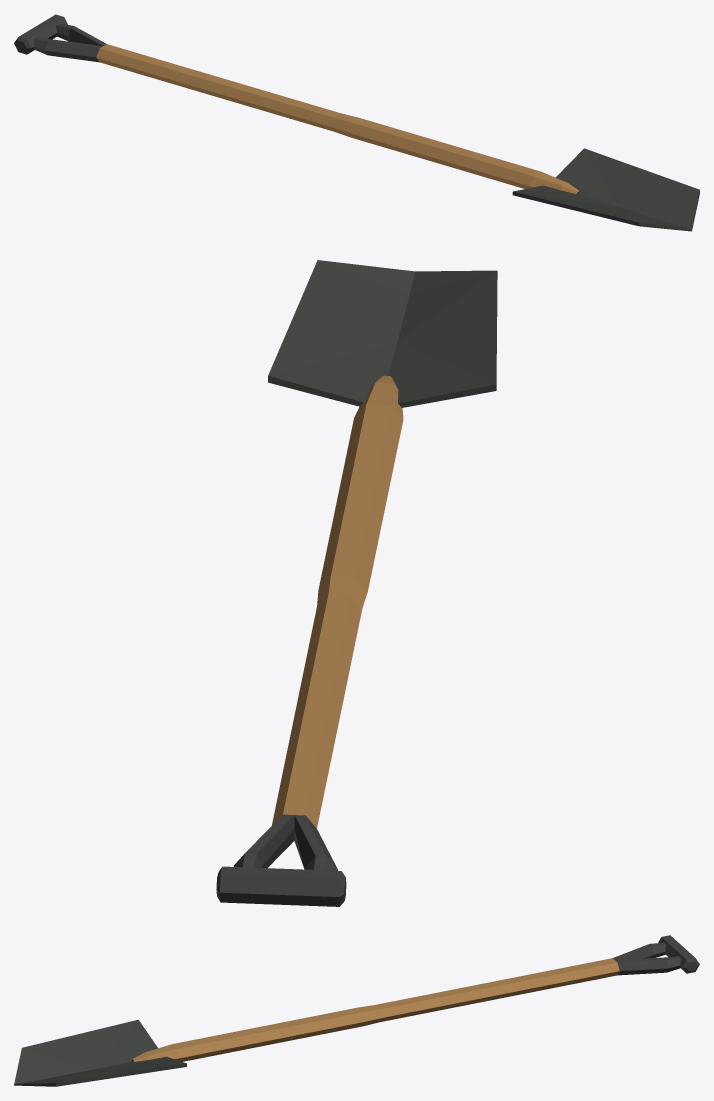
File: Shovel.fbx
The picture shows the model from 3 angles, top to bottom: view 1: azimuth 30°, elevation 25°; view 2: azimuth 150°, elevation 25°; view 3: azimuth 270°, elevation 25°; orthographic projection. The views are drawn at different scales.
Parts seen in each view (by area): view 1: Shovel; view 2: Shovel; view 3: Shovel.
Part boxes in pixels (bbox=[...]): Shovel: bbox=[14, 14, 699, 231]; Shovel: bbox=[216, 260, 497, 906]; Shovel: bbox=[14, 935, 699, 1086].
Size of the model in its own units: 341 by 21.39 by 631.
